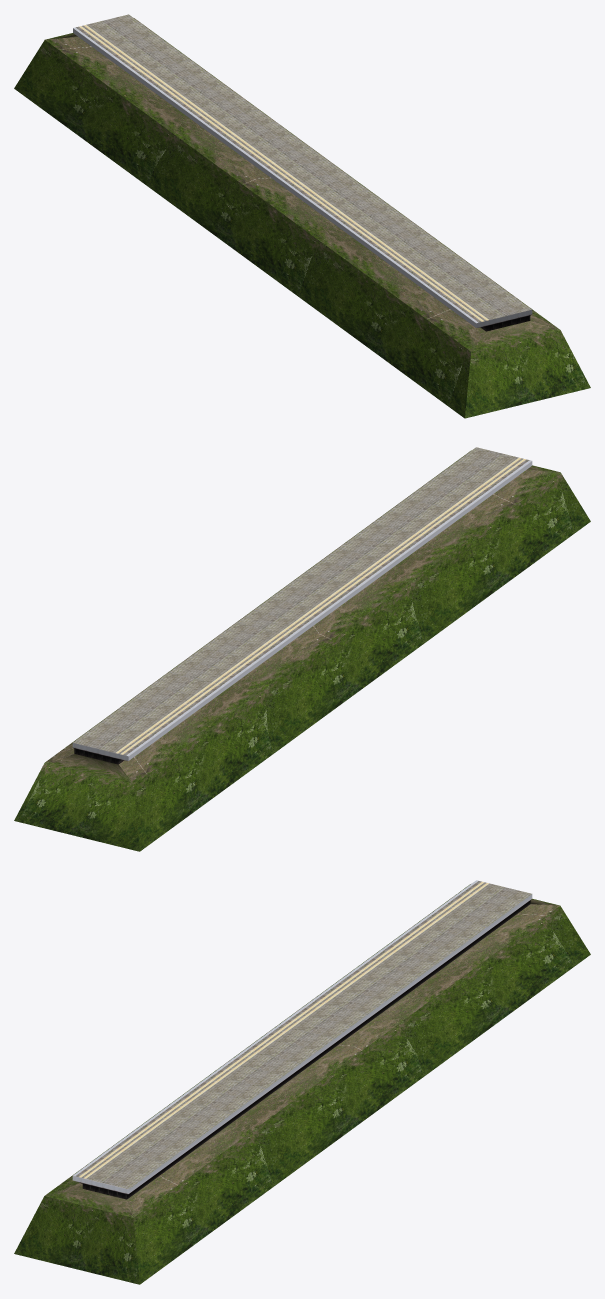
The model's file is platform_rus_r50.gltf.
The picture shows the model from 3 angles, top to bottom: view 1: azimuth 30°, elevation 25°; view 2: azimuth 150°, elevation 25°; view 3: azimuth 330°, elevation 25°; orthographic projection.
Size of the model in its own units: 9.01 by 4.75 by 55.91.
Materials: 1 (1 with a texture image).
